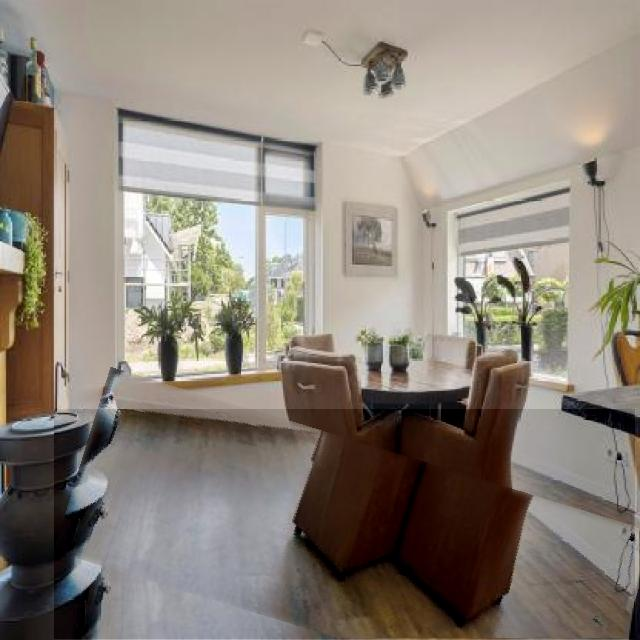floor: (55, 410, 635, 639)
